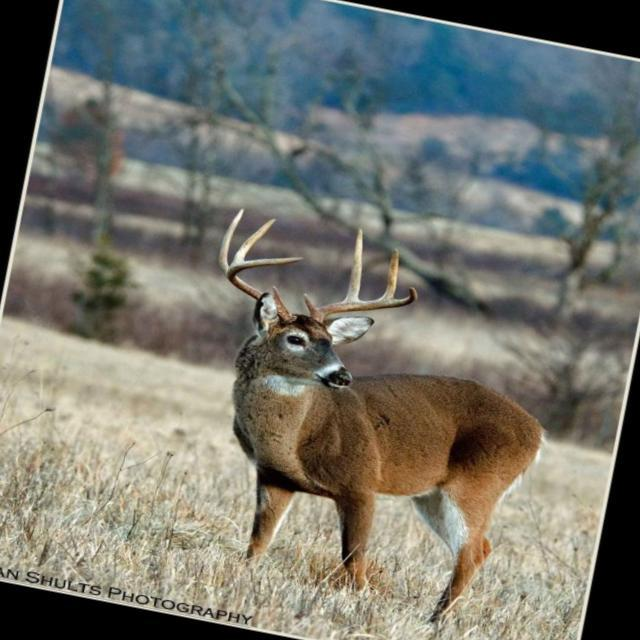L-F: (311, 287, 418, 323)
L-G1: (303, 293, 317, 312)
L-G2: (344, 227, 363, 301)
L-G3: (382, 247, 400, 300)
R-G1: (272, 286, 289, 316)
R-G2: (218, 208, 245, 279)
R-G3: (232, 218, 277, 264)
